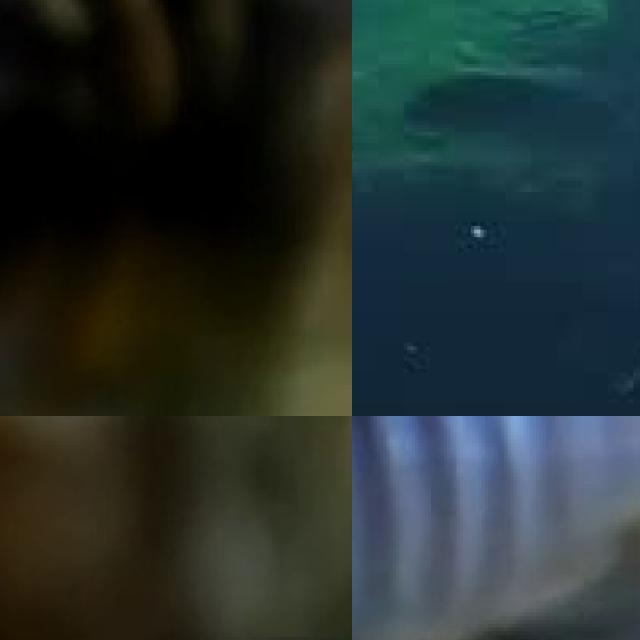fish: (0, 0, 352, 416)
